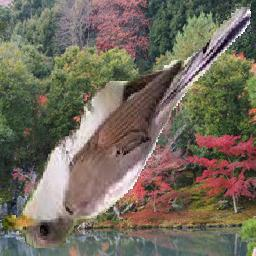Cuckoo: (3, 4, 252, 248)
